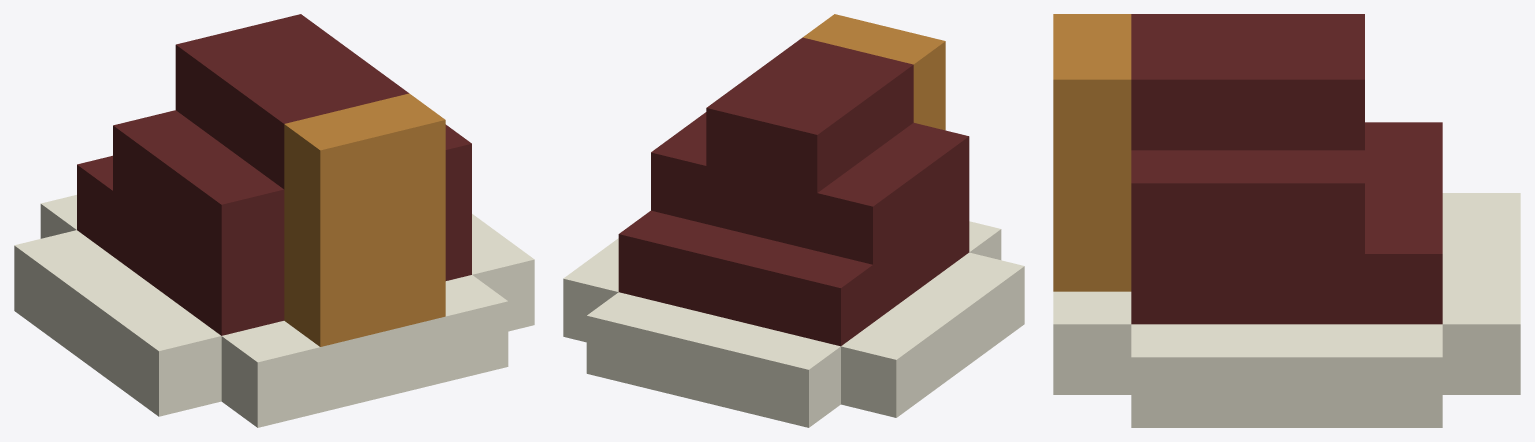
File: character-258-helm_lgt_3b_du_color.obj
3 renders of one model, left to right at view 1: azimuth 30°, elevation 25°; view 2: azimuth 150°, elevation 25°; view 3: azimuth 270°, elevation 25°, orthographic. The views are drawn at different scales.
Parts seen in each view (by area): view 1: helm_lgt_3b_du_color; view 2: helm_lgt_3b_du_color; view 3: helm_lgt_3b_du_color.
Boxes of the visible parts, x1,y1,x2,y2 form: helm_lgt_3b_du_color: [14, 14, 534, 427]; helm_lgt_3b_du_color: [563, 14, 1024, 427]; helm_lgt_3b_du_color: [1053, 14, 1520, 427].
Bounding box in the file's own units: 0.6 × 0.4 × 0.6.
1 material, 1 textured.
